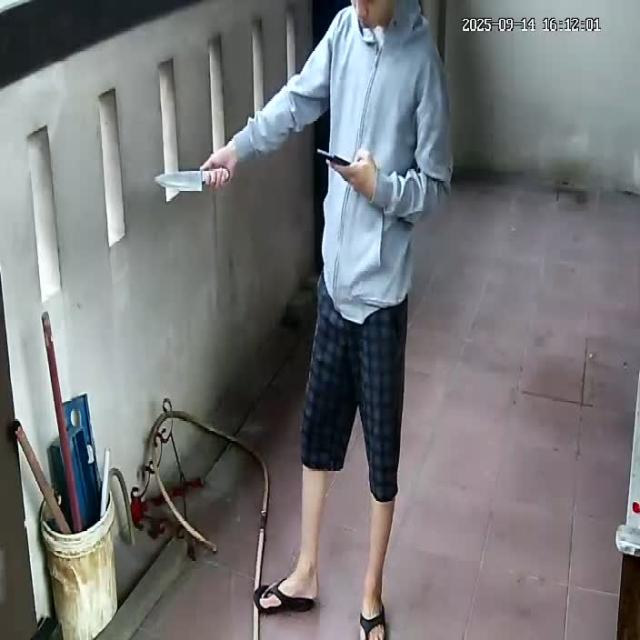senjata_tajam: (153, 167, 207, 195)
